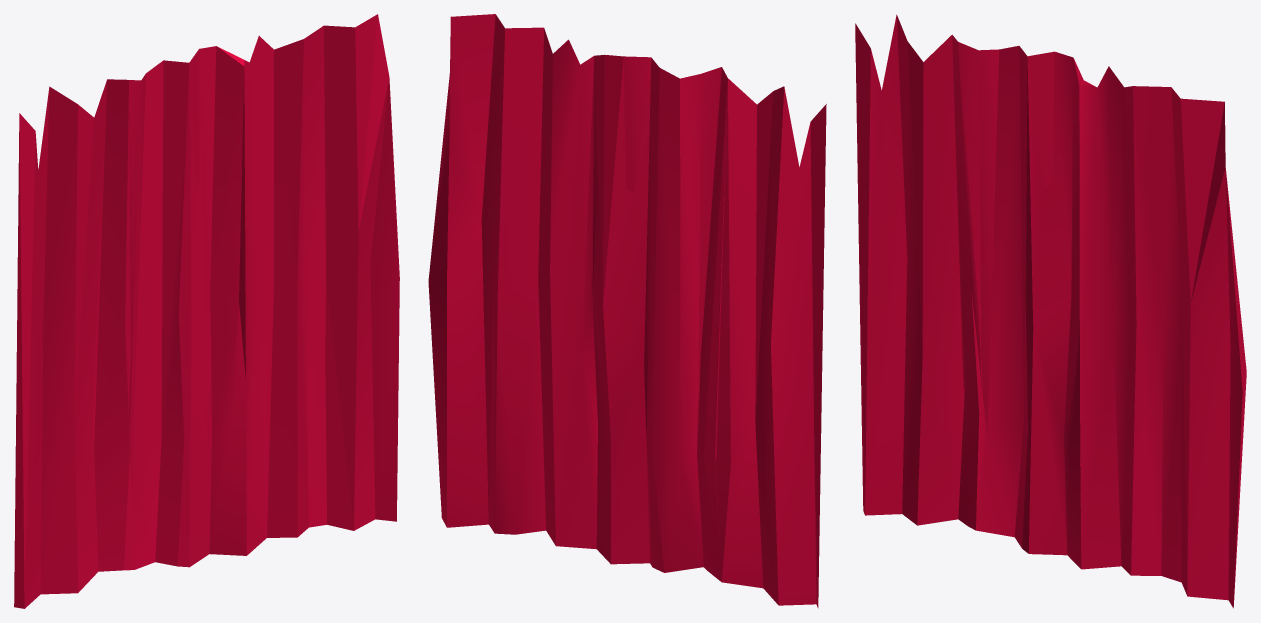
File: panel3-lod1.fbx
3 renders of one model, left to right at view 1: azimuth 30°, elevation 25°; view 2: azimuth 150°, elevation 25°; view 3: azimuth 330°, elevation 25°, orthographic.
Visible parts, largest first — view 1: panel3-lod1; view 2: panel3-lod1; view 3: panel3-lod1.
Part boxes in pixels (x1,y1,x2,y2): panel3-lod1: (14,14,399,608); panel3-lod1: (428,14,826,608); panel3-lod1: (855,14,1246,608).
Bounding box in the file's own units: 0.5091 × 0.6477 × 0.0494.
